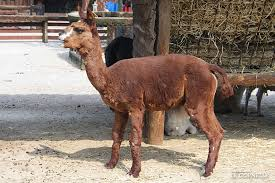alpaca: (57, 9, 229, 178)
